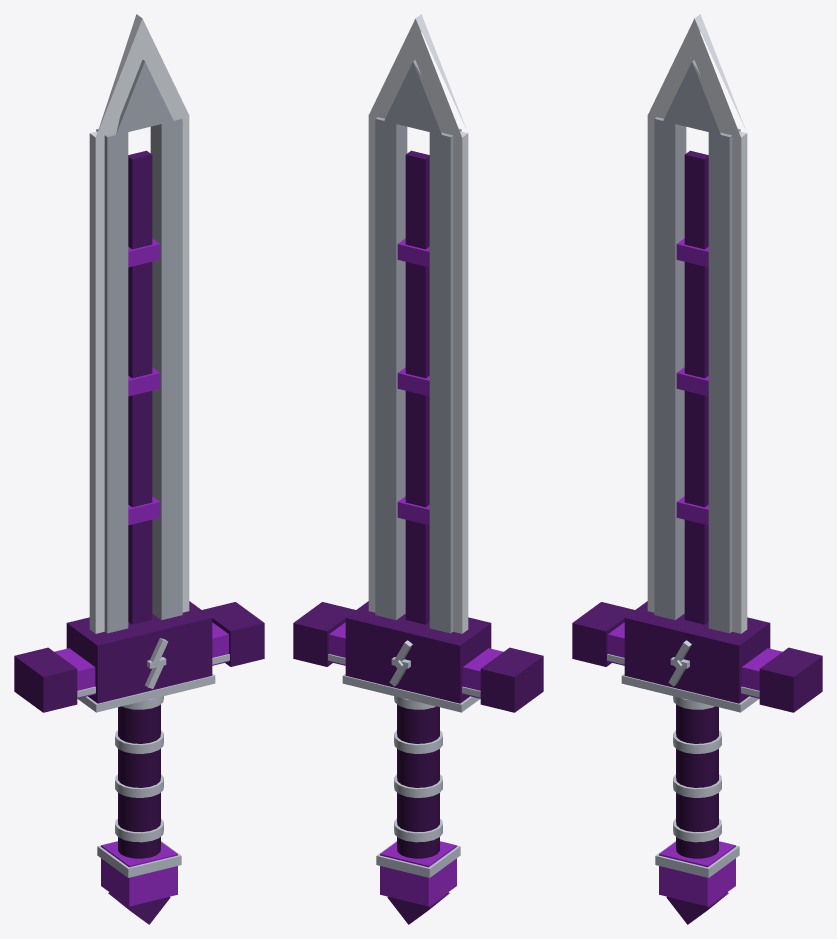
3 renders of one model, left to right at view 1: azimuth 30°, elevation 25°; view 2: azimuth 150°, elevation 25°; view 3: azimuth 330°, elevation 25°, orthographic.
Parts seen in each view (by area): view 1: stormedge; view 2: stormedge; view 3: stormedge.
Boxes of the visible parts, x1,y1,x2,y2 form: stormedge: (14,14,264,924); stormedge: (293,14,543,924); stormedge: (572,14,822,924).
Bounding box in the file's own units: 0.2582 × 1 × 0.0829.
